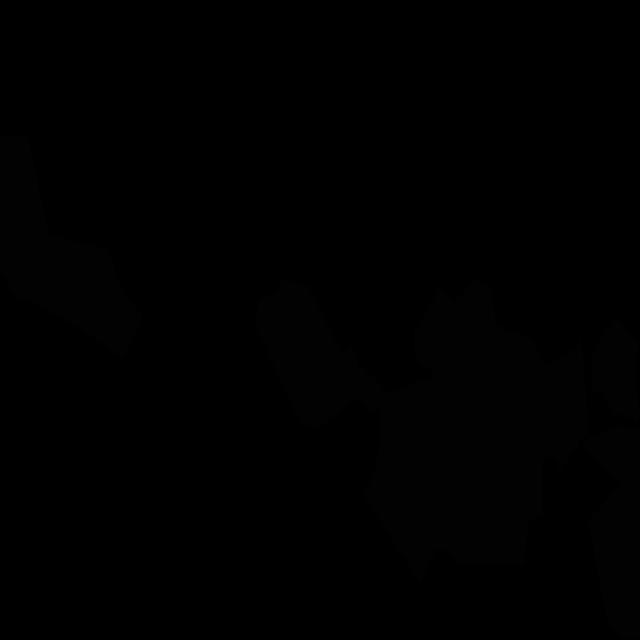cardboard: (364, 279, 589, 583), (254, 279, 385, 427), (0, 234, 143, 359), (582, 425, 640, 639), (0, 134, 49, 244), (592, 316, 640, 425)
